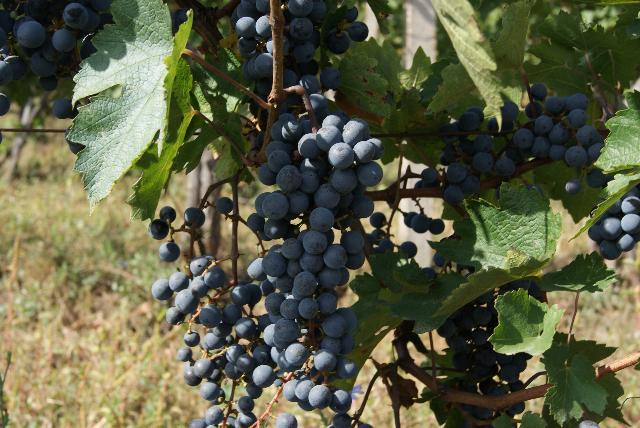grapes: (261, 115, 381, 414), (154, 258, 269, 428), (440, 94, 604, 205)
